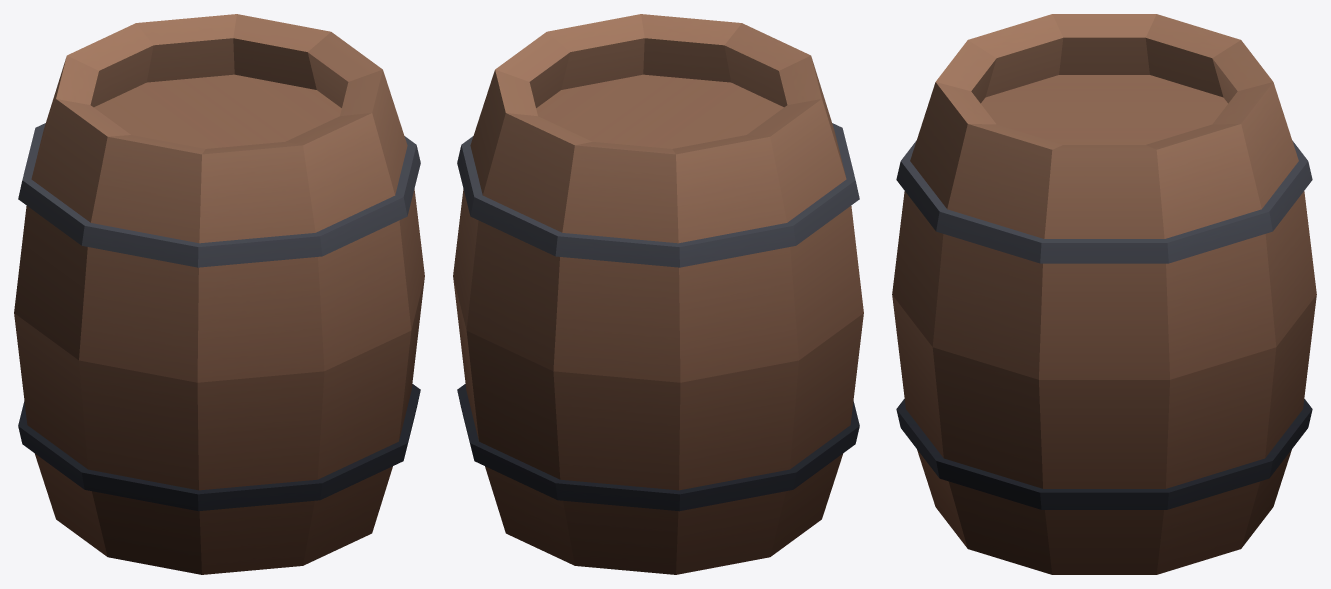
Rendered from beczka2.fbx.
The picture shows the model from 3 angles, left to right: view 1: azimuth 30°, elevation 25°; view 2: azimuth 150°, elevation 25°; view 3: azimuth 270°, elevation 25°; orthographic projection.
Parts seen in each view (by area): view 1: beczka2; view 2: beczka2; view 3: beczka2.
Boxes of the visible parts, x1,y1,x2,y2 form: beczka2: [14, 14, 424, 574]; beczka2: [453, 14, 863, 574]; beczka2: [892, 14, 1316, 574].
Size of the model in its own units: 239 by 278 by 251.
